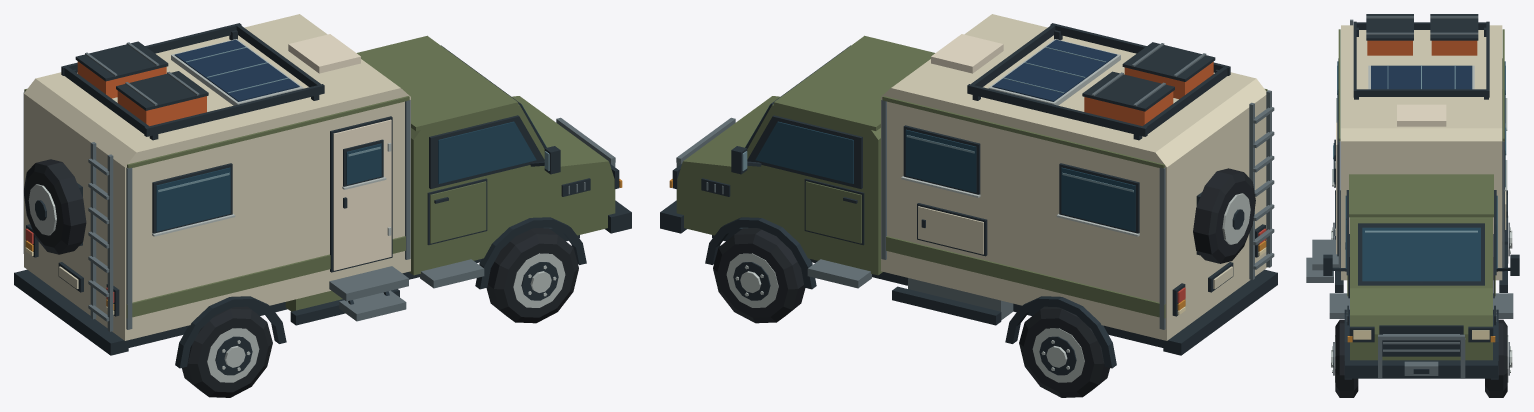
Rendered from 03_ridgeline_expedition.glb.
3 views of the same model, side by side, from view 1: azimuth 30°, elevation 25°; view 2: azimuth 150°, elevation 25°; view 3: azimuth 270°, elevation 25° (orthographic). The views are drawn at different scales.
Parts seen in each view (by area): view 1: Cream_habitation, Olive_truck_cab, Cab_roof_panel, Habitation_entry_panel, Wheel_front_right_tire, Truck_side_glass_1_glass, Roof_solar_cells, Wheel_rear_right_tire, Rear_spare_tire, Rear_living_window_1_glass, Habitat_olive_band_1, Door_lower_panel_1 (+35 smaller); view 2: Cream_habitation, Olive_truck_cab, Cab_roof_panel, Wheel_front_left_tire, Habitat_olive_band_-1, Truck_side_glass_-1_glass, Roof_solar_cells, Wheel_rear_left_tire, Rear_spare_tire, Rear_living_window_-1_glass, Kitchen_window_glass, Door_lower_panel_-1 (+34 smaller); view 3: Cream_habitation, Olive_truck_cab, Truck_windshield_glass, Cab_roof_panel, Roof_solar_cells, Front_steel_bumper, Radiator_grille, Truck_windshield_frame, Roof_case_lid_-0.46, Roof_case_lid_0.44, Roof_hatch, Roof_rack_end_-0.56 (+32 smaller).
Part boxes in pixels (left/top/right/bottom): Cream_habitation: left=24, top=14, right=410, bottom=340; Olive_truck_cab: left=409, top=96, right=615, bottom=275; Cab_roof_panel: left=357, top=35, right=518, bottom=130; Habitation_entry_panel: left=333, top=119, right=391, bottom=270; Wheel_front_right_tire: left=486, top=228, right=578, bottom=323; Truck_side_glass_1_glass: left=438, top=121, right=536, bottom=183; Roof_solar_cells: left=174, top=39, right=299, bottom=101; Wheel_rear_right_tire: left=182, top=306, right=272, bottom=397; Rear_spare_tire: left=23, top=159, right=86, bottom=254; Rear_living_window_1_glass: left=156, top=167, right=230, bottom=231; Habitat_olive_band_1: left=126, top=236, right=405, bottom=318; Door_lower_panel_1: left=430, top=181, right=486, bottom=243; Cream_habitation: left=881, top=14, right=1267, bottom=340; Olive_truck_cab: left=676, top=96, right=882, bottom=275; Cab_roof_panel: left=773, top=35, right=934, bottom=130; Wheel_front_left_tire: left=713, top=228, right=805, bottom=323; Habitat_olive_band_-1: left=886, top=236, right=1165, bottom=318; Truck_side_glass_-1_glass: left=755, top=121, right=853, bottom=183; Roof_solar_cells: left=992, top=39, right=1117, bottom=101; Wheel_rear_left_tire: left=1019, top=306, right=1109, bottom=397; Rear_spare_tire: left=1193, top=168, right=1255, bottom=263; Rear_living_window_-1_glass: left=1061, top=167, right=1135, bottom=231; Kitchen_window_glass: left=905, top=129, right=976, bottom=192; Door_lower_panel_-1: left=805, top=181, right=861, bottom=243; Cream_habitation: left=1341, top=25, right=1502, bottom=280; Olive_truck_cab: left=1350, top=217, right=1492, bottom=360; Truck_windshield_glass: left=1362, top=227, right=1480, bottom=281; Cab_roof_panel: left=1349, top=174, right=1493, bottom=217; Roof_solar_cells: left=1371, top=65, right=1472, bottom=89; Front_steel_bumper: left=1345, top=357, right=1497, bottom=378; Radiator_grille: left=1379, top=325, right=1463, bottom=356; Truck_windshield_frame: left=1358, top=223, right=1484, bottom=285; Roof_case_lid_-0.46: left=1430, top=14, right=1478, bottom=40; Roof_case_lid_0.44: left=1366, top=14, right=1413, bottom=40; Roof_hatch: left=1397, top=104, right=1446, bottom=126; Roof_rack_end_-0.56: left=1356, top=89, right=1486, bottom=96.
Size of the model in its own units: 7.06 by 3.65 by 2.99.
